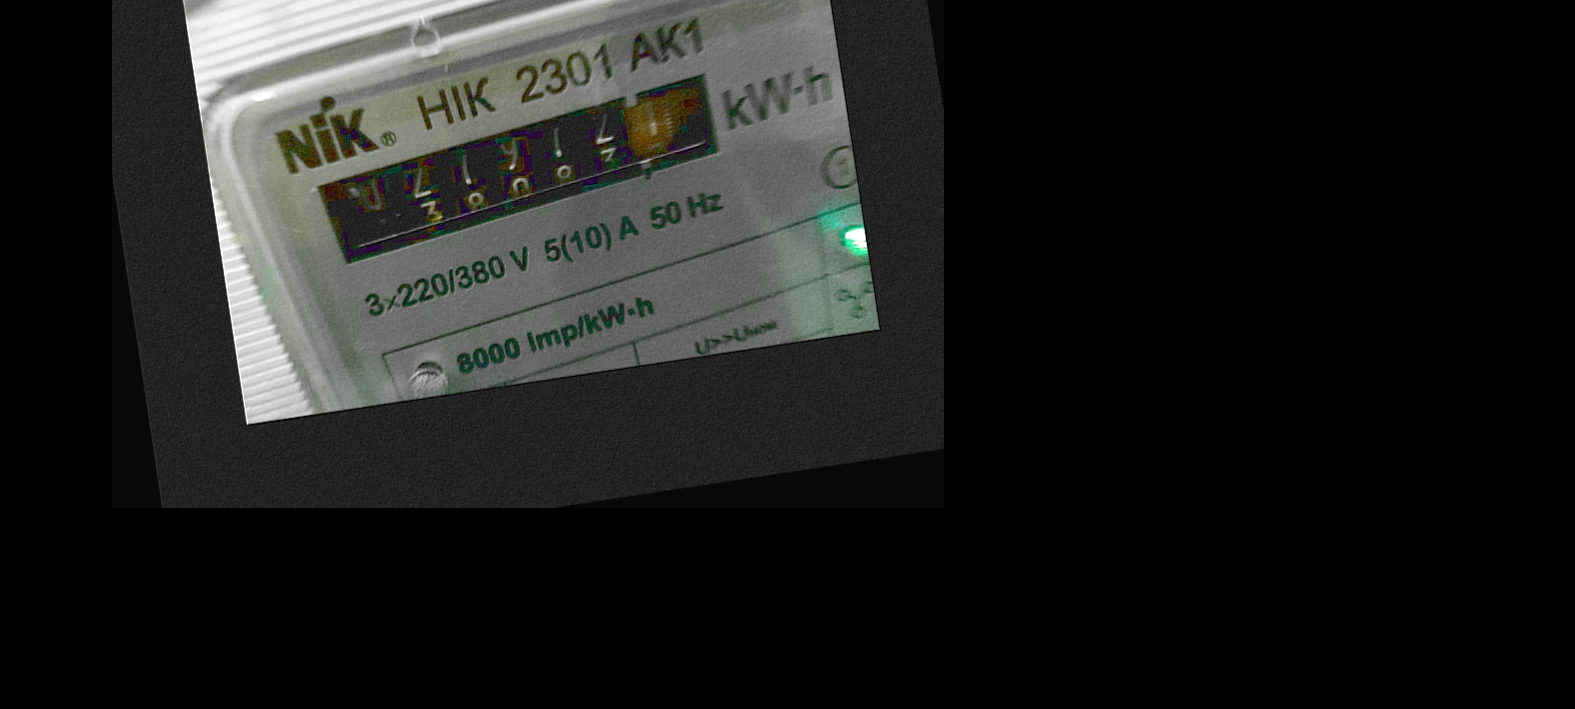0: (355, 174, 388, 214)
1: (639, 95, 667, 141)
2: (402, 158, 436, 201), (586, 106, 619, 147)
7: (541, 119, 572, 163), (451, 149, 479, 189)
9: (496, 134, 527, 173)
screen: (292, 59, 762, 279)
